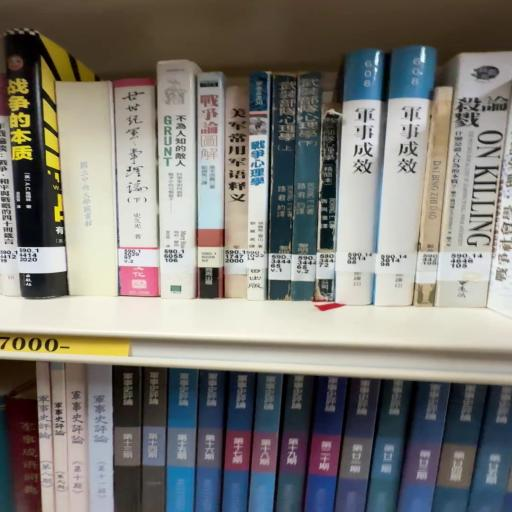backward: (58, 82, 119, 297)
book: (1, 36, 67, 301), (58, 76, 121, 297), (156, 58, 200, 300), (112, 76, 159, 298)
